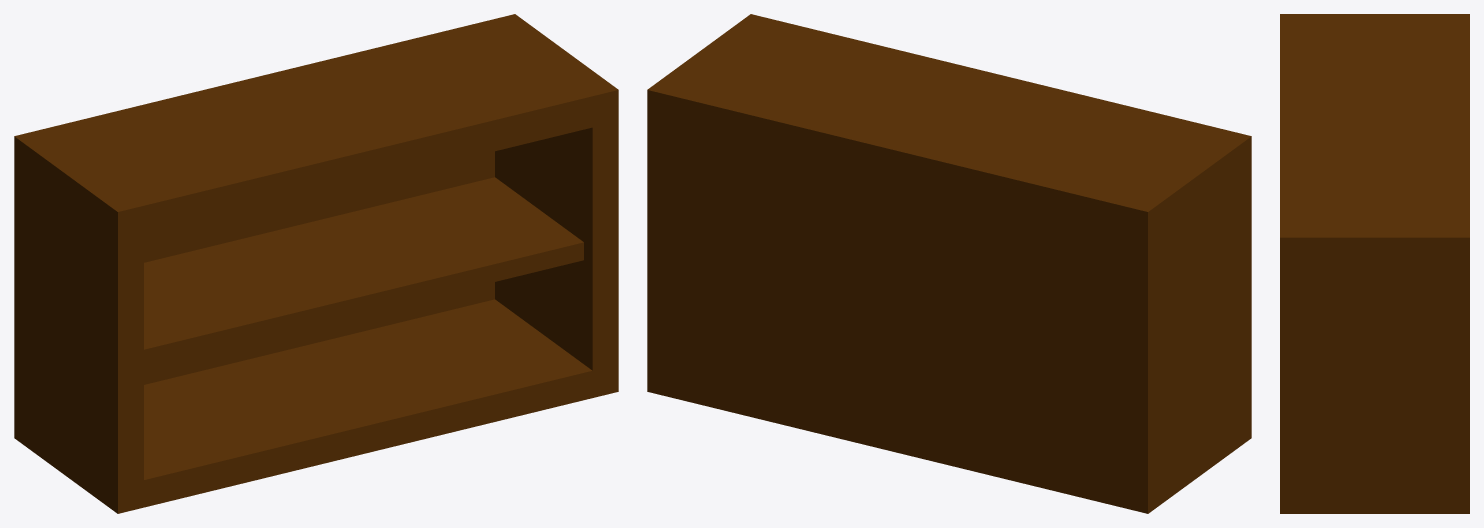
File: Cabinets.fbx
The picture shows the model from 3 angles, left to right: view 1: azimuth 30°, elevation 25°; view 2: azimuth 150°, elevation 25°; view 3: azimuth 270°, elevation 25°; orthographic projection. The views are drawn at different scales.
Parts seen in each view (by area): view 1: Cube; view 2: Cube; view 3: Cube.
Boxes of the visible parts, left/top/right/bottom form: Cube: left=14, top=14, right=618, bottom=513; Cube: left=647, top=14, right=1251, bottom=513; Cube: left=1280, top=14, right=1469, bottom=513.
Bounding box in the file's own units: 352 × 203 × 126.
